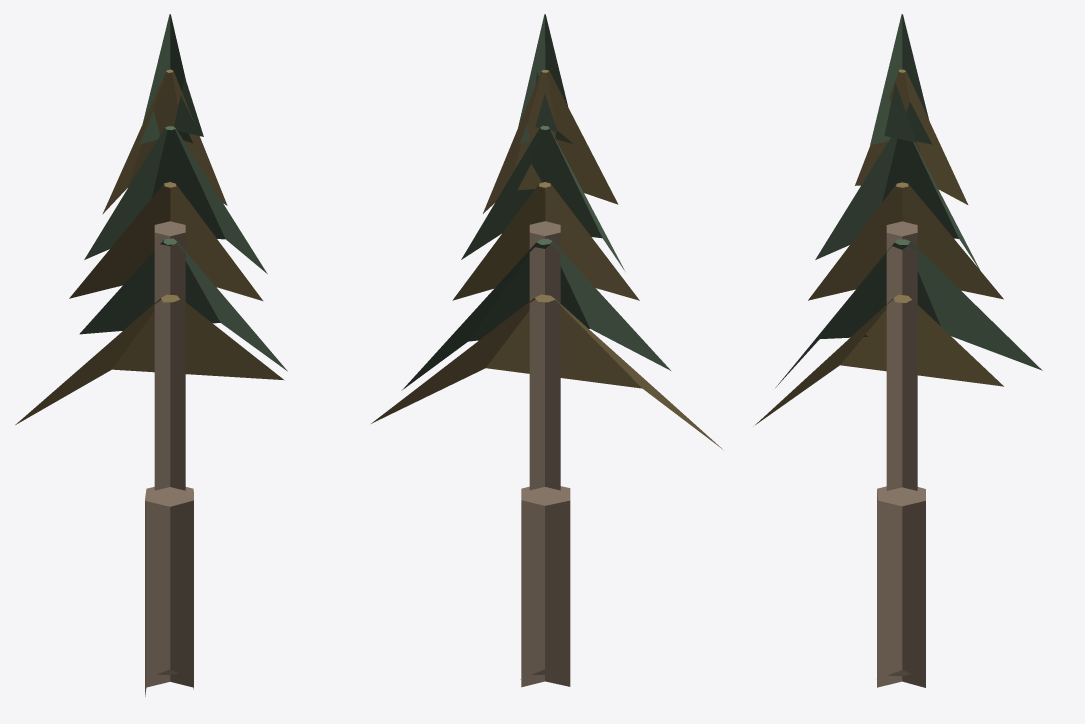
Rendered from shu.masan@fruiting__autumn.glb.
3 views of the same model, side by side, from view 1: azimuth 30°, elevation 25°; view 2: azimuth 150°, elevation 25°; view 3: azimuth 270°, elevation 25° (orthographic).
Parts seen in each view (by area): view 1: shu.masan@fruiting__autumn; view 2: shu.masan@fruiting__autumn; view 3: shu.masan@fruiting__autumn.
Part boxes in pixels (left/top/right/bottom): shu.masan@fruiting__autumn: left=15, top=14, right=287, bottom=696; shu.masan@fruiting__autumn: left=371, top=14, right=722, bottom=687; shu.masan@fruiting__autumn: left=753, top=14, right=1042, bottom=687.
Size of the model in its own units: 8.49 by 18.78 by 7.95.
